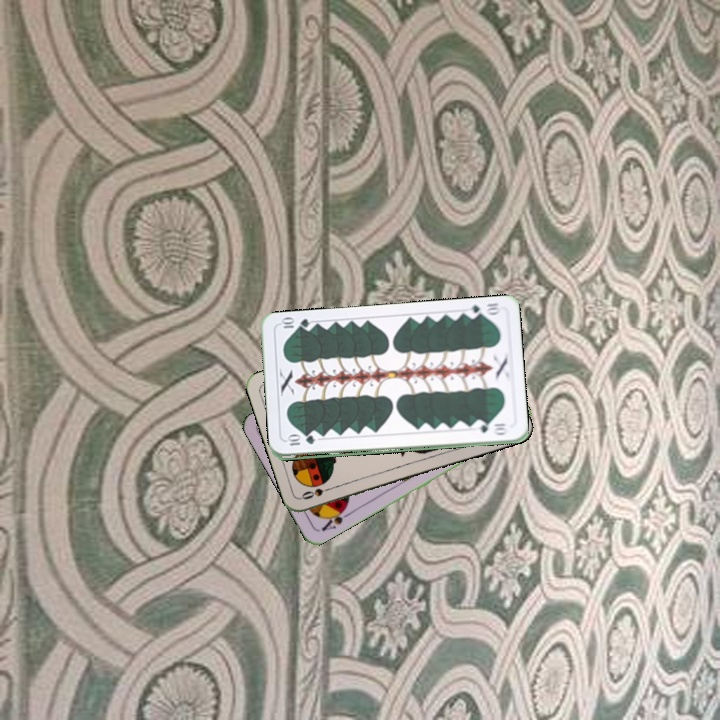G10: (462, 299, 501, 321), (283, 434, 318, 448)
SA: (317, 502, 354, 534)
SO: (297, 482, 337, 502)
